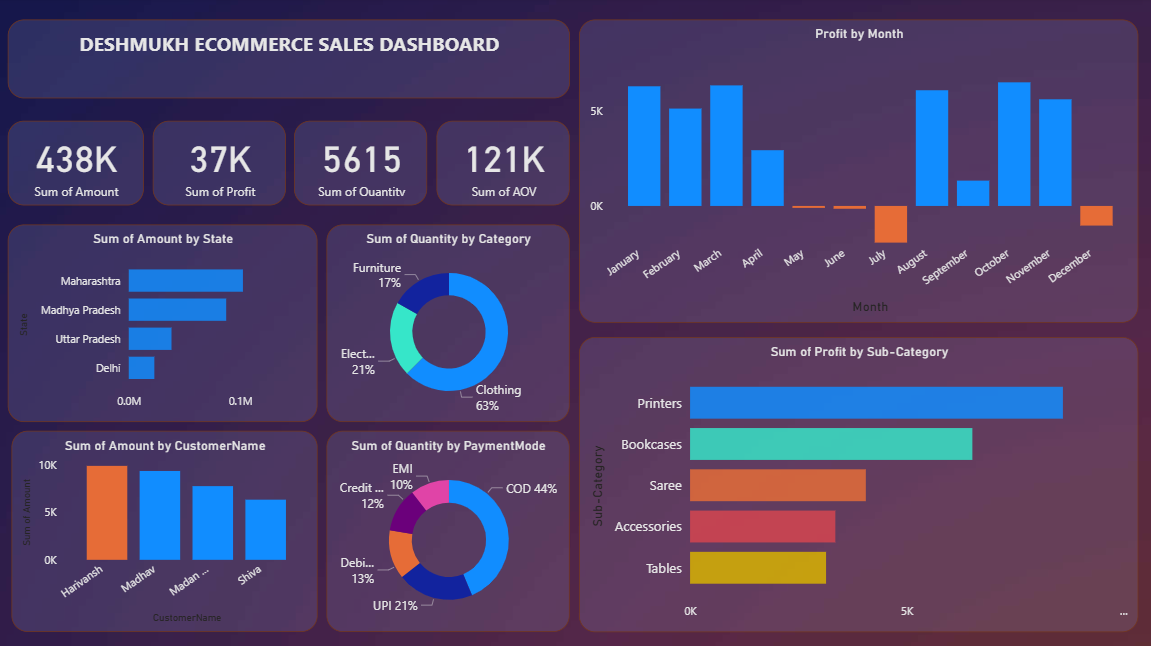

Layout of this report page (visuals, bound fields, positions):
{"tool":"powerbi","page":{"name":"Page 1","canvas":[1280,720],"ordinal":0},"visuals":[{"type":"textbox","box":[10,25,621.2,87.5],"z":0},{"type":"columnChart","title":"Profit by Month","fields":{"Y":["Details.Profit"],"Category":["Orders.Order Date.Variation.Date Hierarchy.Month"]},"box":[641.2,25,618.8,335],"z":1000},{"type":"barChart","fields":{"Category":["Details.Sub-Category"],"Y":["Details.Profit"]},"box":[641.2,376.2,618.8,326.2],"z":2000},{"type":"donutChart","fields":{"Category":["Details.Category"],"Y":["Details.Quantity"]},"box":[362.5,251.2,268.8,218.8],"z":3000},{"type":"donutChart","fields":{"Y":["Details.Quantity"],"Category":["Details.PaymentMode"]},"box":[362.5,480,268.8,222.5],"z":4000},{"type":"card","fields":{"Values":["Details.Amount"]},"box":[10,136.2,150,93.8],"z":5000},{"type":"card","fields":{"Values":["Details.Profit"]},"box":[170,136.2,147.5,93.8],"z":6000},{"type":"card","fields":{"Values":["Details.Quantity"]},"box":[326.2,136.2,147.5,93.8],"z":7000},{"type":"card","fields":{"Values":["Details.AOV"]},"box":[483.8,136.2,147.5,93.8],"z":8000},{"type":"barChart","fields":{"Category":["Orders.State"],"Y":["Details.Amount"]},"box":[10,251.2,342.5,218.8],"z":9000},{"type":"columnChart","fields":{"Category":["Orders.CustomerName"],"Y":["Details.Amount"]},"box":[13.8,480,338.8,222.5],"z":10000}]}

Visuals, with their boxes in screenshot pixels (x1, y1, x2, y2), scaled from the page's 1280x720 canvas onto the 1151x646 screenshot:
textbox: BBox(9, 22, 568, 101)
"Profit by Month" columnChart: BBox(577, 22, 1133, 323)
barChart - Details.Sub-Category x Details.Profit: BBox(577, 338, 1133, 630)
donutChart - Details.Category x Details.Quantity: BBox(326, 225, 568, 422)
donutChart - Details.Quantity x Details.PaymentMode: BBox(326, 431, 568, 630)
card - Details.Amount: BBox(9, 122, 144, 206)
card - Details.Profit: BBox(153, 122, 286, 206)
card - Details.Quantity: BBox(293, 122, 426, 206)
card - Details.AOV: BBox(435, 122, 568, 206)
barChart - Orders.State x Details.Amount: BBox(9, 225, 317, 422)
columnChart - Orders.CustomerName x Details.Amount: BBox(12, 431, 317, 630)
